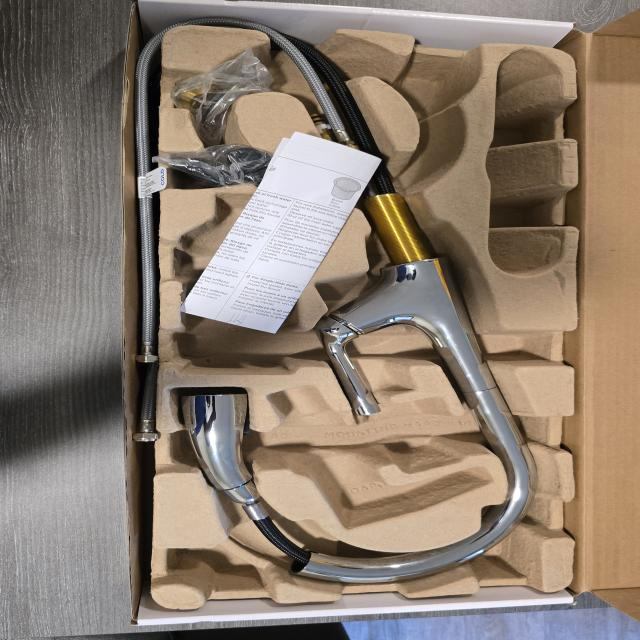1o: (177, 26, 537, 585)
2m: (267, 385, 489, 529)
3m: (181, 192, 306, 373)
4m: (486, 49, 563, 278)
5m: (402, 60, 465, 112)
6: (172, 46, 278, 142)
7o: (154, 146, 320, 194)
8: (178, 131, 388, 334)
